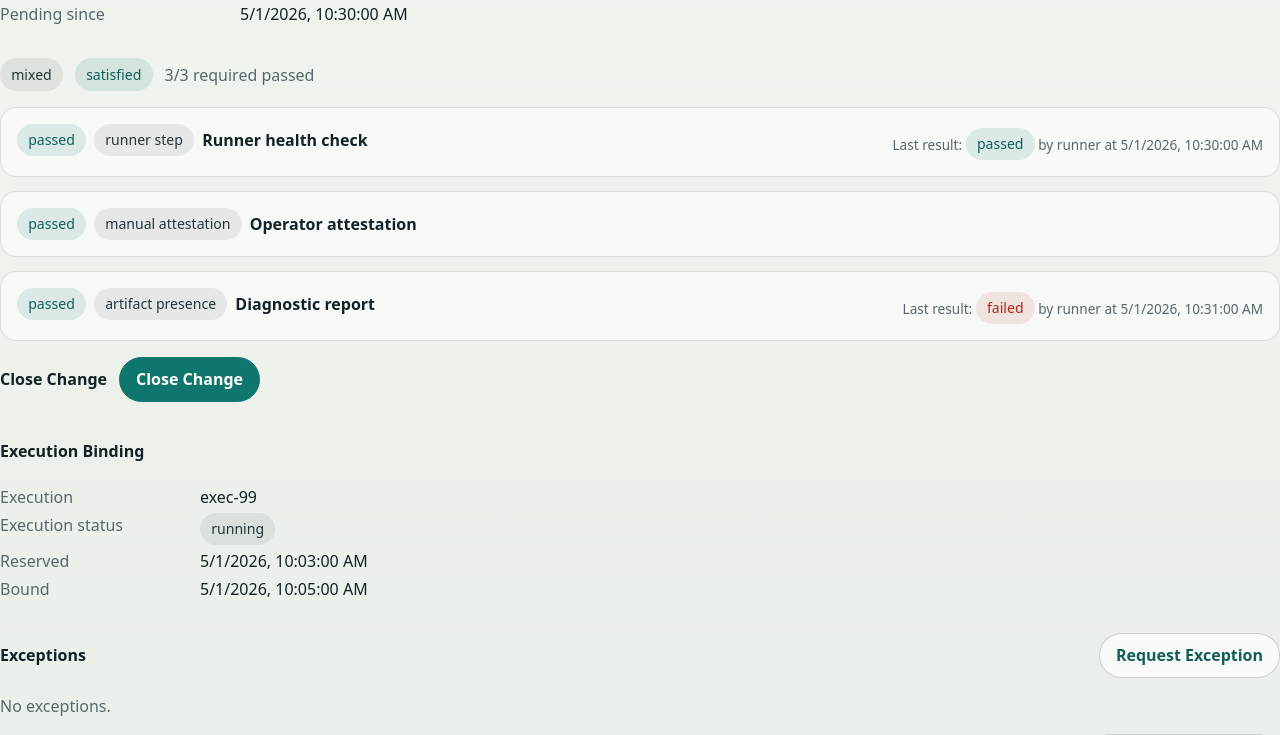
Test: ChangeDetailPage › closure confirm button is disabled until outcome and summary are filled
(page scrolled)
Click the button "Close Change". click: (190, 379)
box: [119,357,260,402]
(page scrolled)
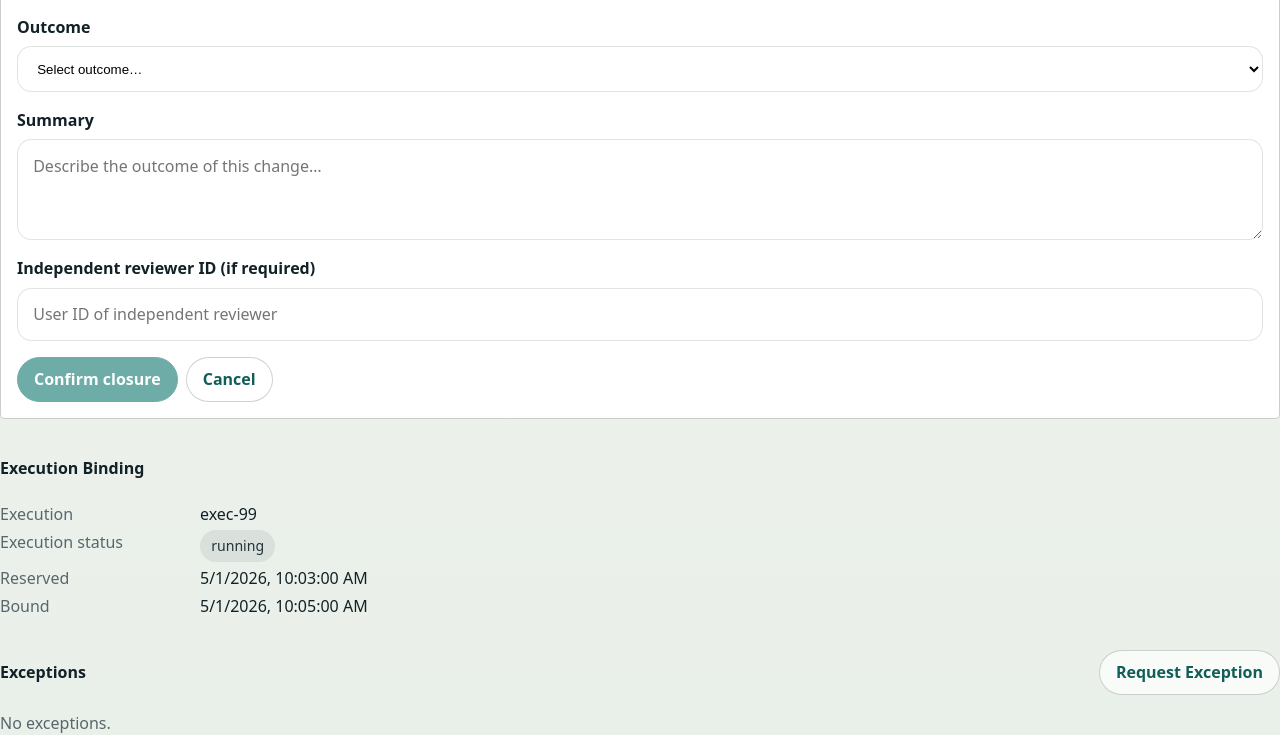
Check: the button "Confirm closure" is disabled, box [17,357,178,402]
